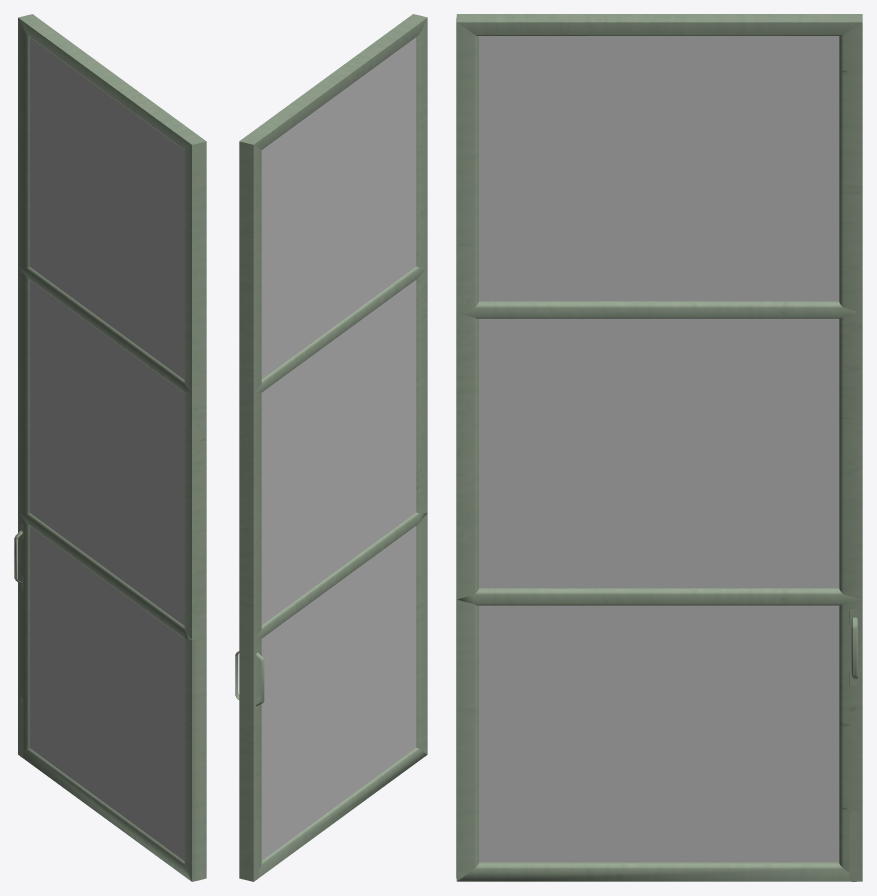
File: SM_WW4_Door_1.fbx
3 renders of one model, left to right at view 1: azimuth 30°, elevation 25°; view 2: azimuth 150°, elevation 25°; view 3: azimuth 270°, elevation 25°, orthographic. The views are drawn at different scales.
Visible parts, largest first — view 1: SM_WW4_Door_1; view 2: SM_WW4_Door_1; view 3: SM_WW4_Door_1.
Part boxes in pixels (x1=…): SM_WW4_Door_1: x1=14, y1=14, x2=206, y2=881; SM_WW4_Door_1: x1=235, y1=14, x2=427, y2=881; SM_WW4_Door_1: x1=456, y1=14, x2=862, y2=881.
Size of the model in its own units: 6.15 by 67.63 by 158.
2 materials, 1 textured.
